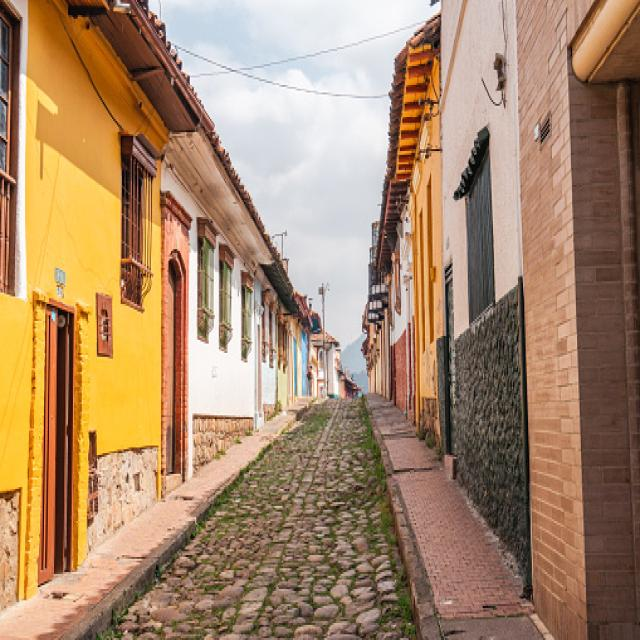Casa: (0, 0, 194, 606), (439, 2, 531, 589), (162, 100, 297, 476), (394, 13, 443, 436), (380, 179, 412, 417), (290, 291, 309, 398)
Poste: (318, 283, 328, 381)
